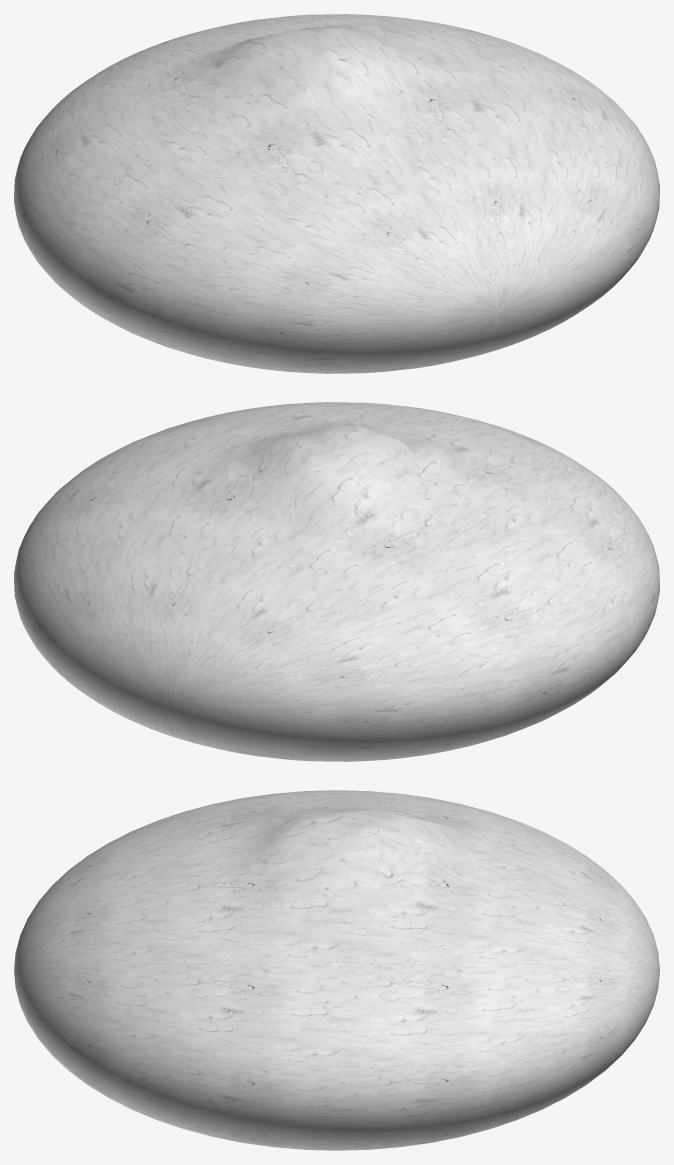
Rendered from Snohaug.glb.
The picture shows the model from 3 angles, top to bottom: view 1: azimuth 30°, elevation 25°; view 2: azimuth 150°, elevation 25°; view 3: azimuth 270°, elevation 25°; orthographic projection.
Visible parts, largest first — view 1: Sphere.001; view 2: Sphere.001; view 3: Sphere.001.
Part boxes in pixels (left/top/right/bottom): Sphere.001: left=14, top=14, right=659, bottom=373; Sphere.001: left=14, top=402, right=659, bottom=761; Sphere.001: left=14, top=790, right=659, bottom=1150.
Size of the model in its own units: 2 by 0.9136 by 2.
1 material, 1 textured.
